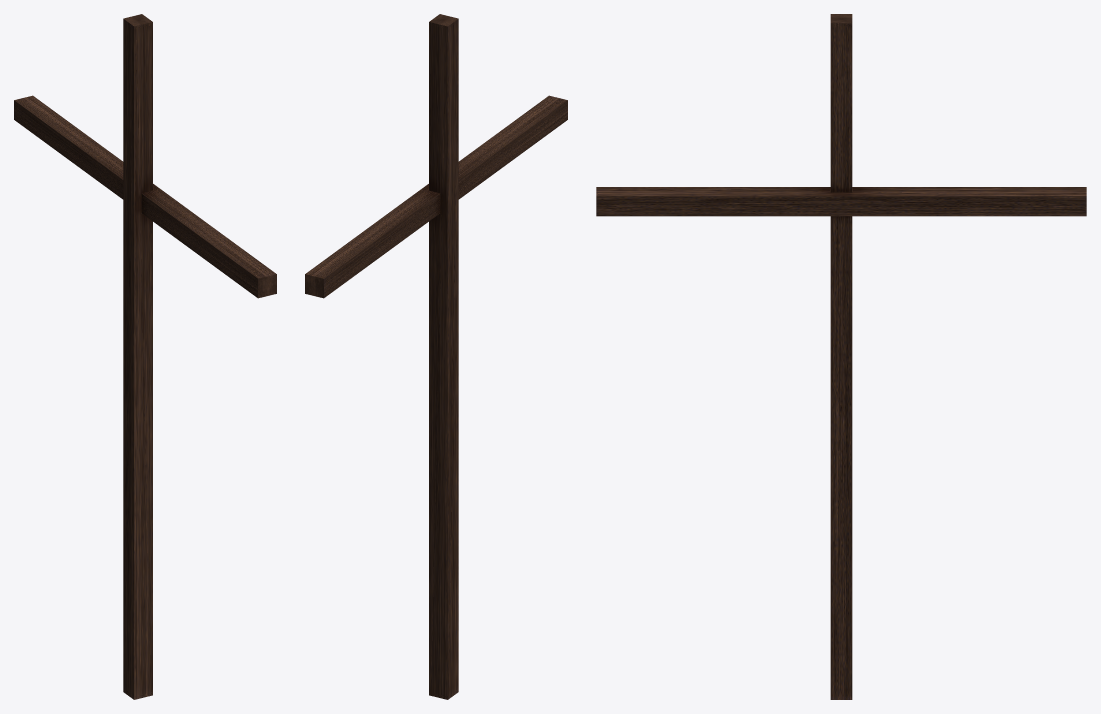
File: cross.glb
The picture shows the model from 3 angles, left to right: view 1: azimuth 30°, elevation 25°; view 2: azimuth 150°, elevation 25°; view 3: azimuth 270°, elevation 25°; orthographic projection.
Parts seen in each view (by area): view 1: Cross_Second_barCross1; view 2: Cross_Second_barCross1; view 3: Cross_Second_barCross1.
Boxes of the visible parts, box(x1,y1,x2,y2) form: Cross_Second_barCross1: box(14, 14, 276, 699); Cross_Second_barCross1: box(305, 14, 567, 699); Cross_Second_barCross1: box(596, 14, 1086, 699).
Bounding box in the file's own units: 0.6629 × 16.28 × 10.69.
1 material, 1 textured.
